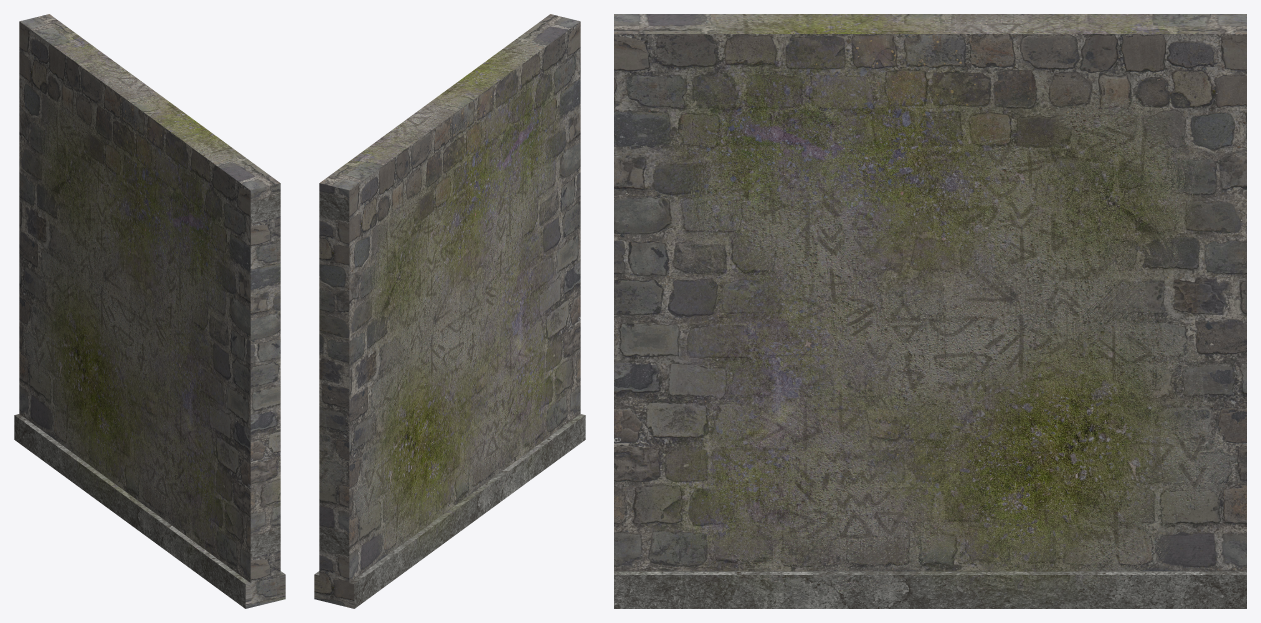
Rendered from Wall_Lvl2_7.fbx.
The picture shows the model from 3 angles, left to right: view 1: azimuth 30°, elevation 25°; view 2: azimuth 150°, elevation 25°; view 3: azimuth 270°, elevation 25°; orthographic projection. The views are drawn at different scales.
Visible parts, largest first — view 1: wall.002; view 2: wall.002; view 3: wall.002.
Part boxes in pixels (x1=…): wall.002: x1=14, y1=14, x2=285, y2=608; wall.002: x1=314, y1=14, x2=585, y2=608; wall.002: x1=614, y1=14, x2=1246, y2=608.
Bounding box in the file's own units: 40 × 399 × 400.
Materials: 1 (1 with a texture image).
